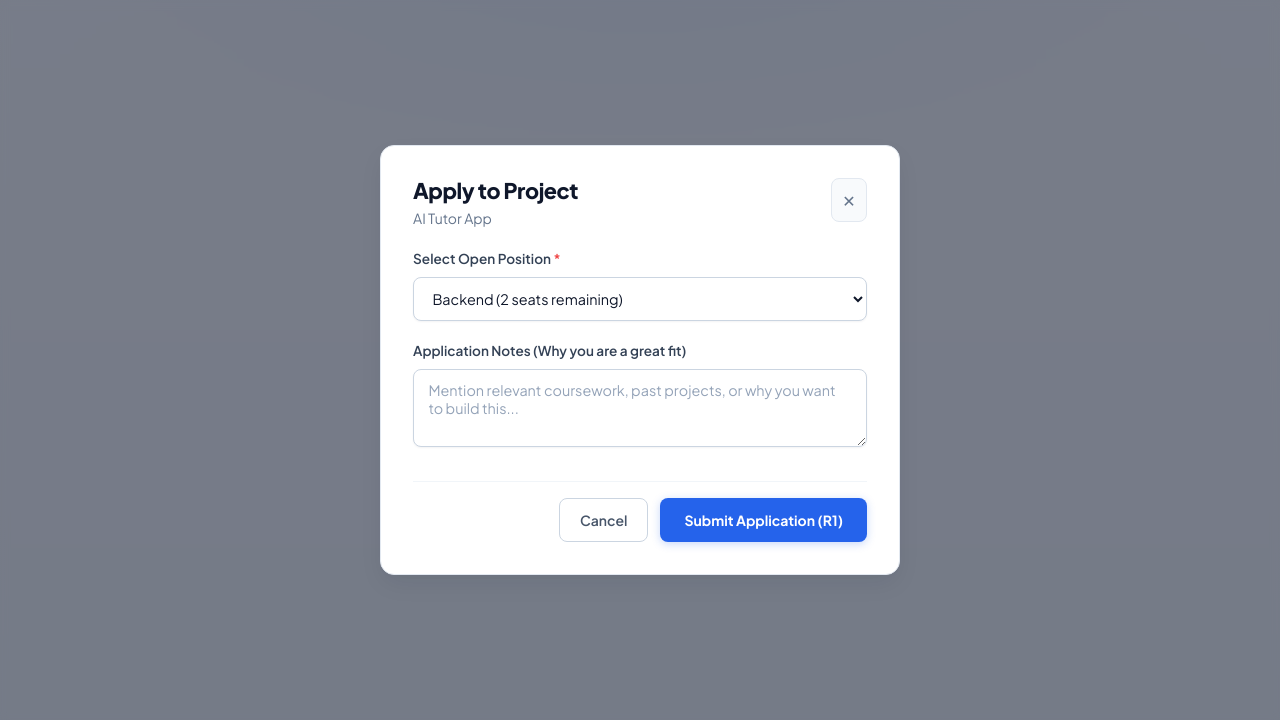
Test: ApplyModal — Apply button states › Submit button shows "Submitting…" text and is disabled while in-flight
The width and height of the screenshot is (1280, 720).
What coordinates should you click on to do the following:
click the button "Submit Application (R1)"
I would click on:
 (764, 520)
Its box is [660,498,867,542].
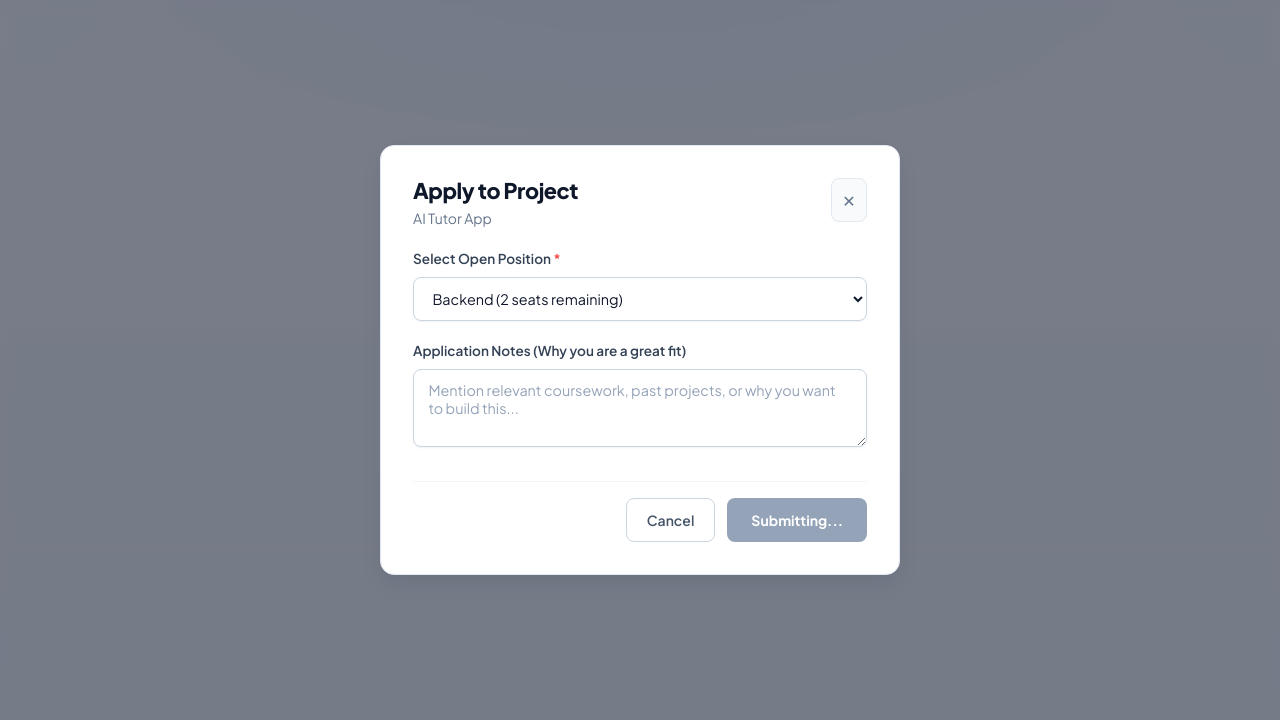
Now the button "Submitting..." is disabled, box [727,498,867,542]
